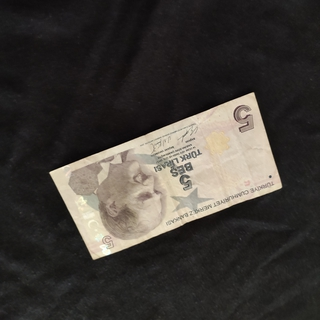5TLFront: (48, 92, 283, 261)
